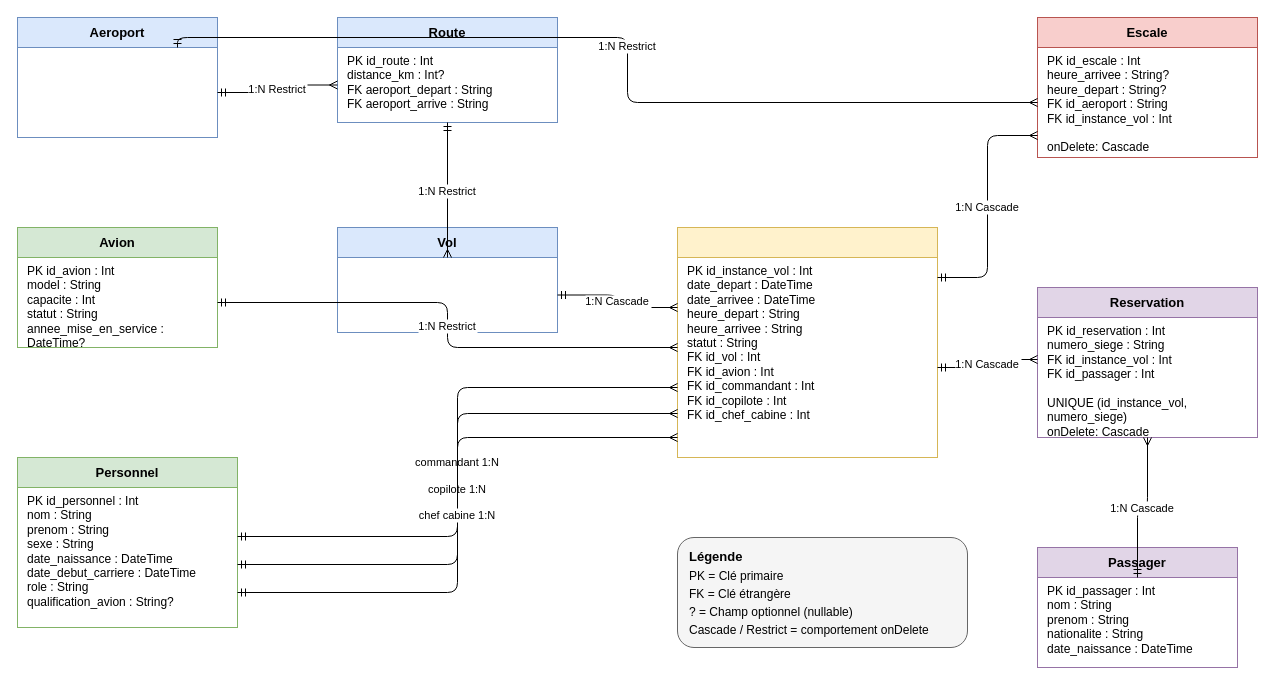
This 1275x685 diagram has some shape labels left out. The centre of each missing label's shape, as x and y in pixels:
InstanceVol: point (807, 242)
PK id_iata : String nom : String ville : String pays : String type : String: point (117, 92)
PK id_vol : Int numero_vol : String type_de_vol : String? FK id_route : Int: point (447, 294)
